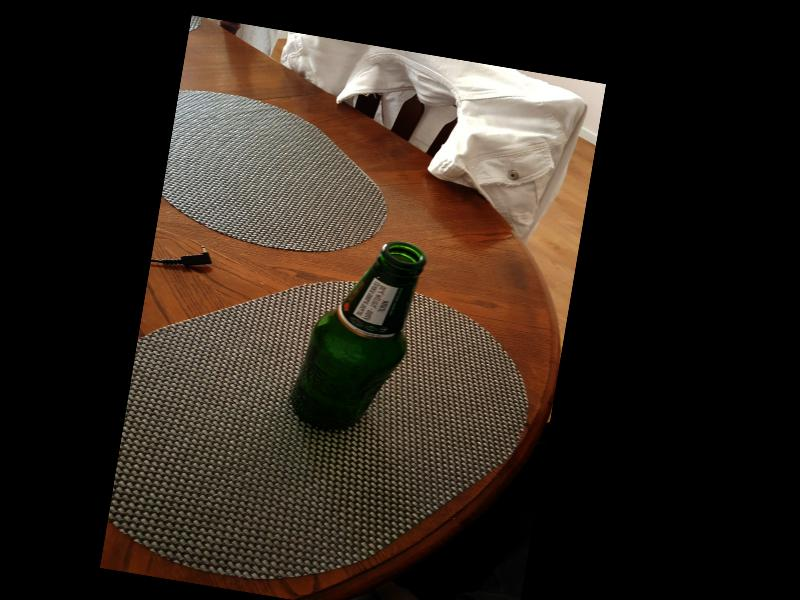Beer: (286, 230, 420, 439)
